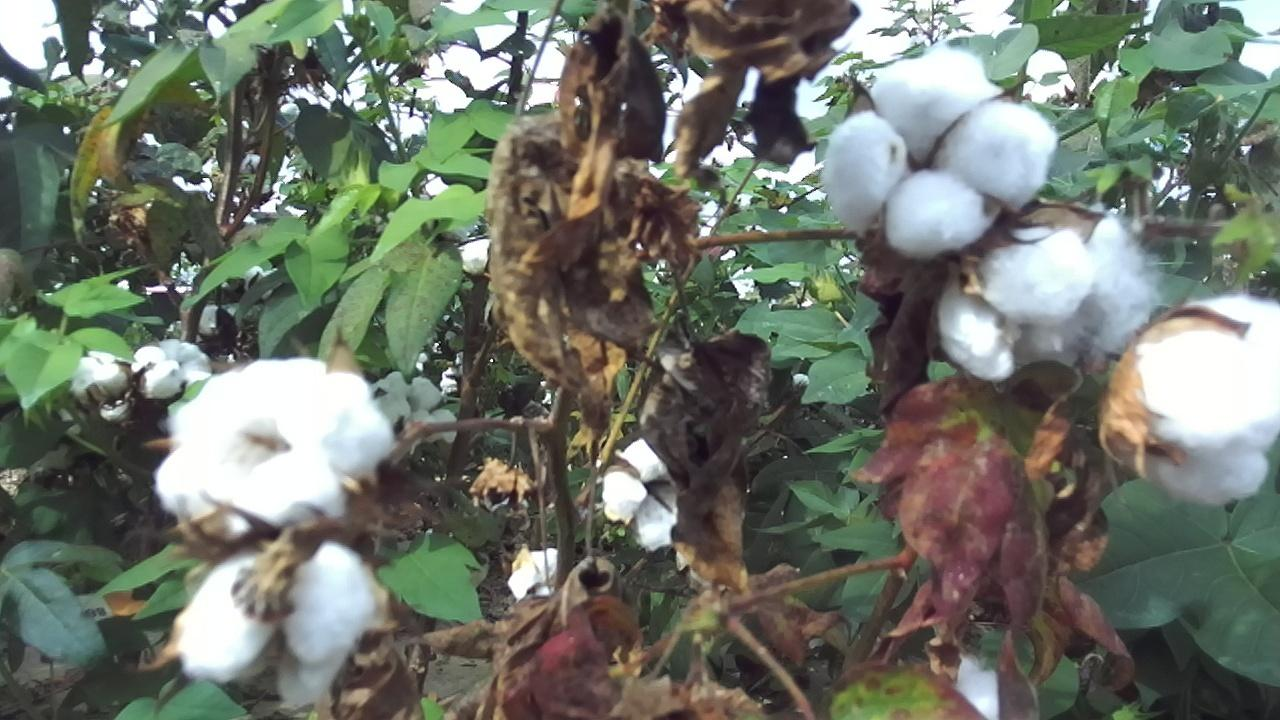cotton_ready: (822, 52, 1054, 255), (157, 357, 397, 539), (939, 210, 1149, 380), (1119, 294, 1280, 505), (176, 542, 374, 710), (604, 442, 682, 551), (371, 373, 459, 450), (948, 649, 1009, 720), (139, 339, 211, 397), (72, 350, 129, 417), (508, 549, 562, 601), (455, 239, 489, 270)
